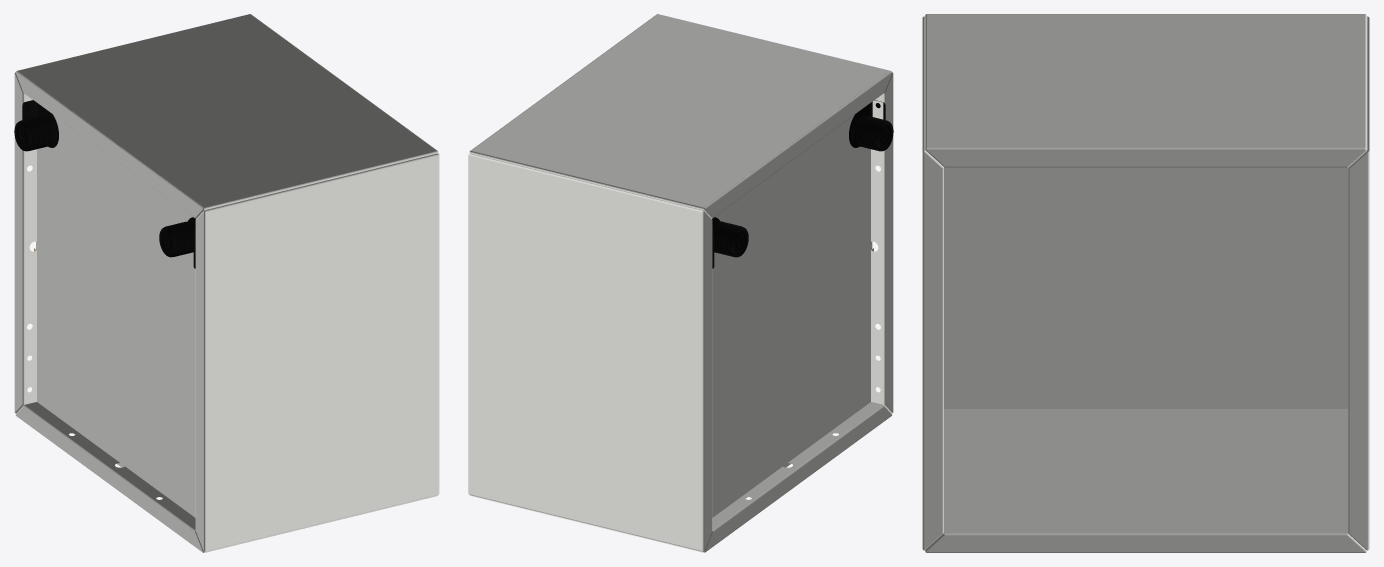
The model's file is EKET_70332124_35x25x35.glb.
3 renders of one model, left to right at view 1: azimuth 30°, elevation 25°; view 2: azimuth 150°, elevation 25°; view 3: azimuth 270°, elevation 25°, orthographic. The views are drawn at different scales.
Visible parts, largest first — view 1: top panel 35x25, 141413_01; view 2: top panel 35x25, 141413_01; view 3: top panel 35x25.
Part boxes in pixels (x1,y1,x2,y2): top panel 35x25: (14, 14, 439, 552); 141413_01: (14, 100, 195, 268); top panel 35x25: (468, 14, 893, 552); 141413_01: (712, 100, 893, 268); top panel 35x25: (922, 14, 1369, 552).
Bounding box in the file's own units: 0.267 × 0.35 × 0.35.
6 materials, 1 textured.
